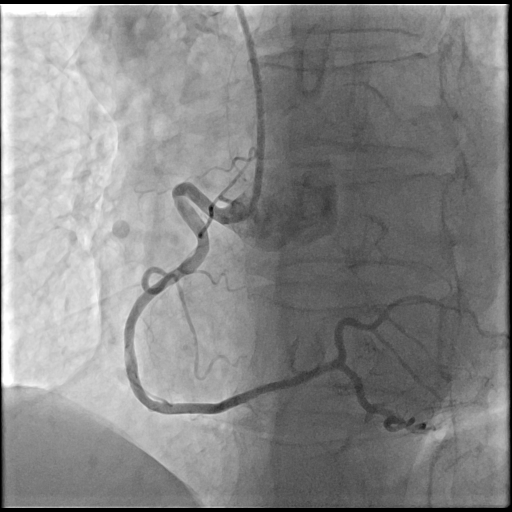RCA: (124, 156, 444, 417)
catherter: (236, 6, 266, 213)
